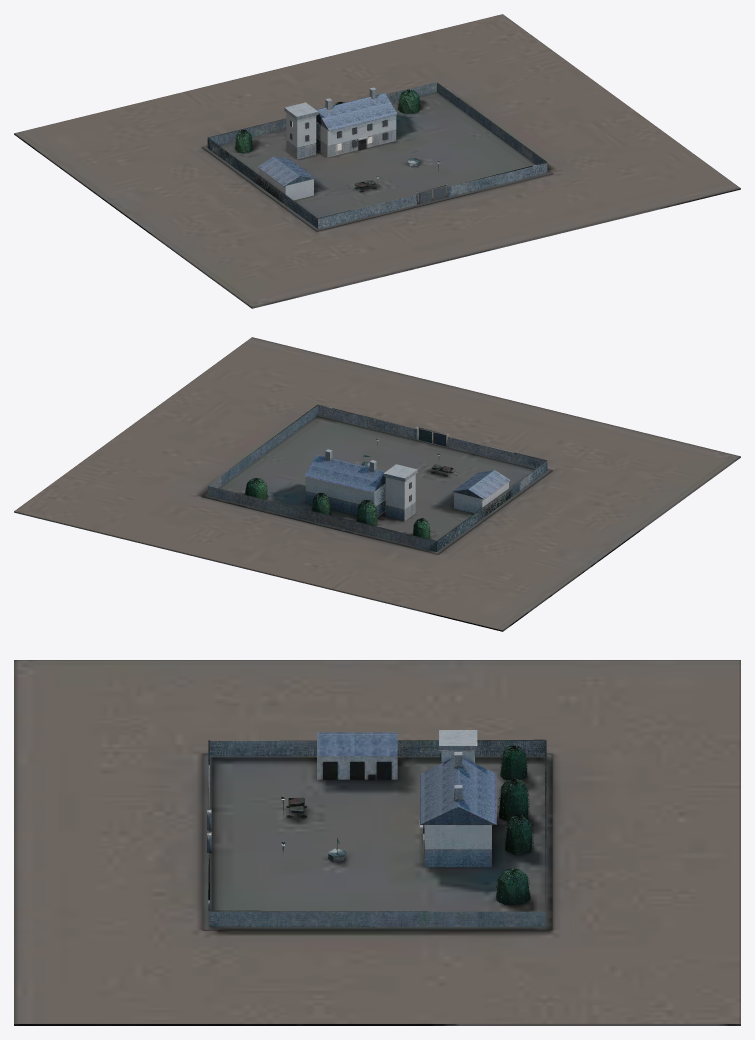
The model's file is linguang_post_low.glb.
3 renders of one model, top to bottom at view 1: azimuth 30°, elevation 25°; view 2: azimuth 150°, elevation 25°; view 3: azimuth 270°, elevation 25°, orthographic. The views are drawn at different scales.
Visible parts, largest first — view 1: site_ground, props_court, props_house; view 2: site_ground, props_court, props_house; view 3: site_ground, props_court, props_house.
Part boxes in pixels (bbox=[...]): site_ground: bbox=[14, 14, 740, 308]; props_court: bbox=[207, 82, 547, 228]; props_house: bbox=[284, 87, 397, 159]; site_ground: bbox=[14, 337, 740, 631]; props_court: bbox=[207, 404, 547, 551]; props_house: bbox=[304, 449, 417, 521]; site_ground: bbox=[14, 660, 740, 1025]; props_court: bbox=[207, 732, 546, 926]; props_house: bbox=[419, 730, 496, 867].
Bounding box in the file's own units: 128 × 12.1 × 108.
3 materials, 3 textured.
